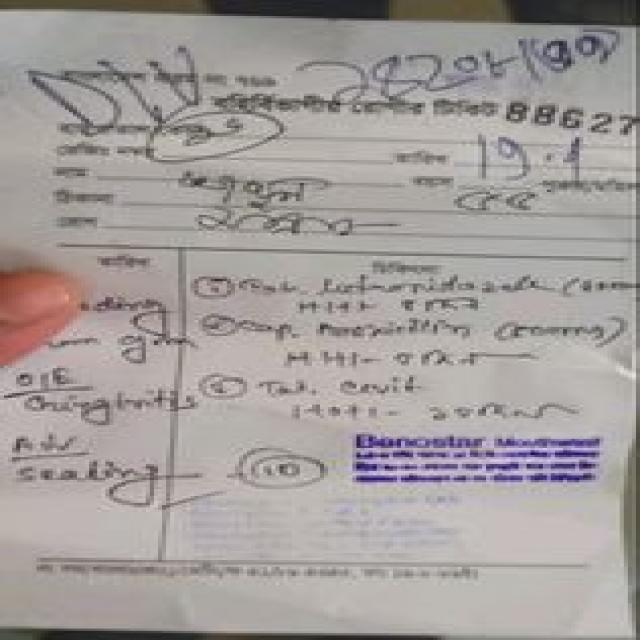Cevit: (330, 368, 430, 406)
Moxilin: (306, 311, 486, 347)
